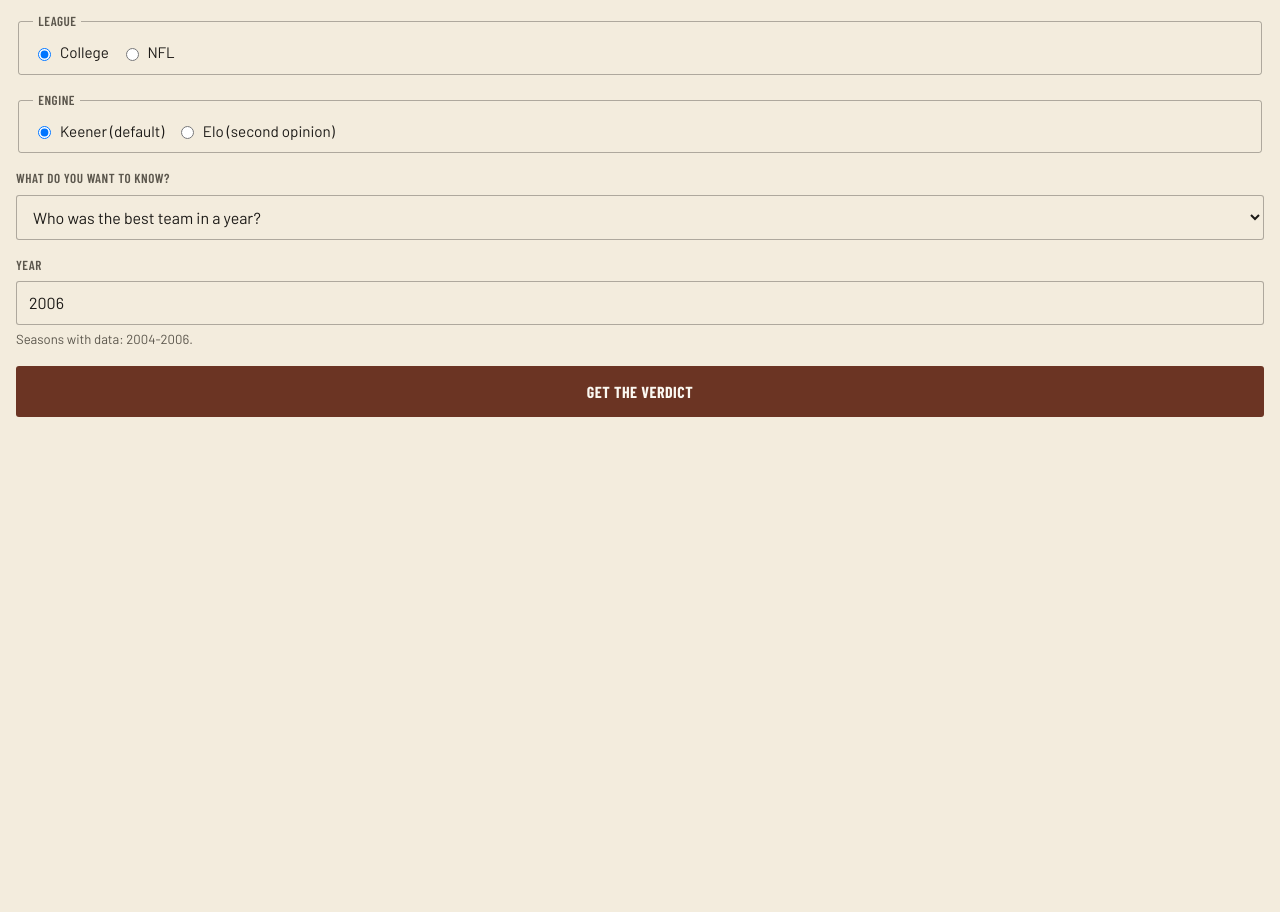
it: QuestionForm › shows the team field when switching to "team case"
Select "How good was a team in a year?" in the dropdown labelled "What do you want to know?" at [640, 217], box [16,195,1264,240]
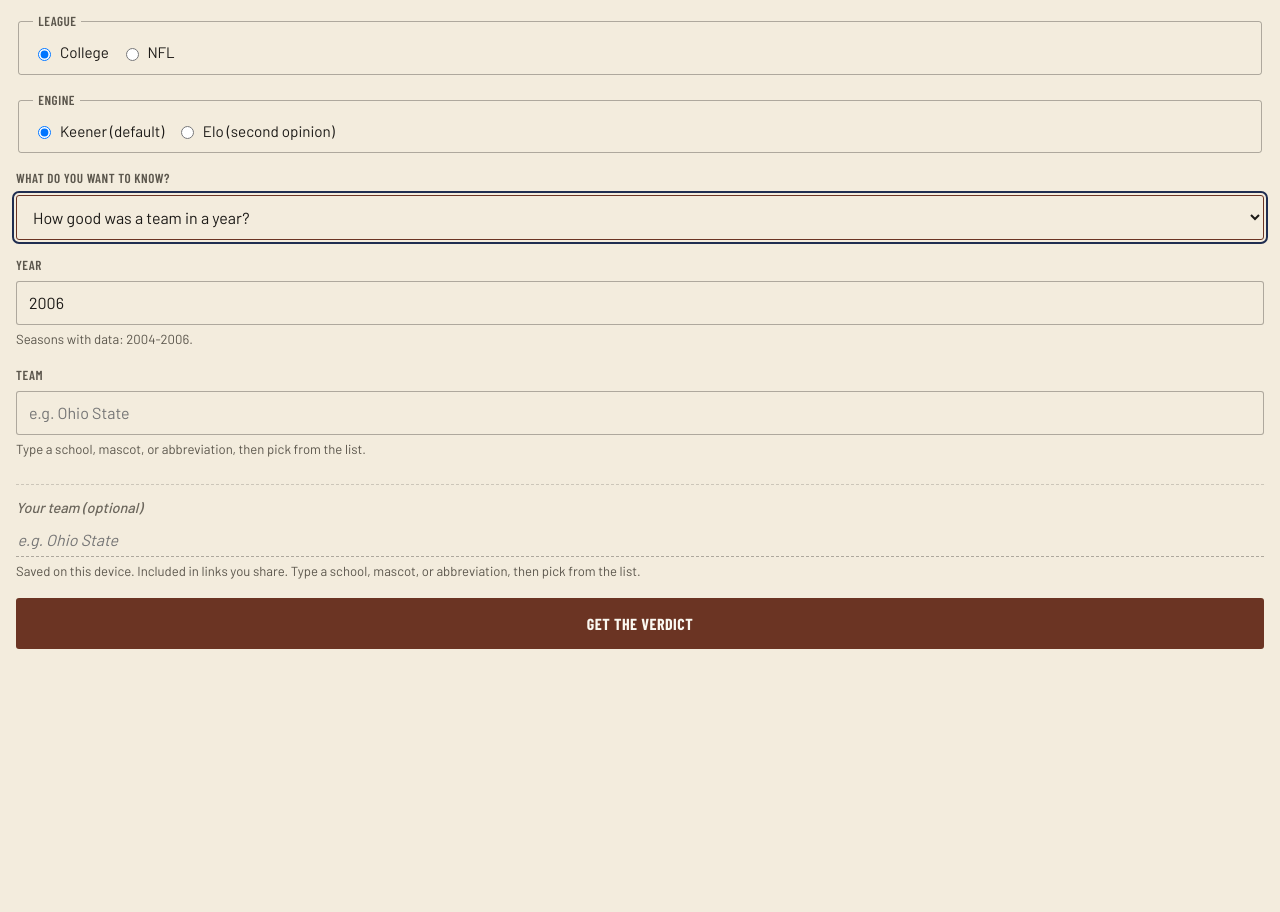
Expected: the dropdown labelled "Team" is shown, [16,391,1264,435]
